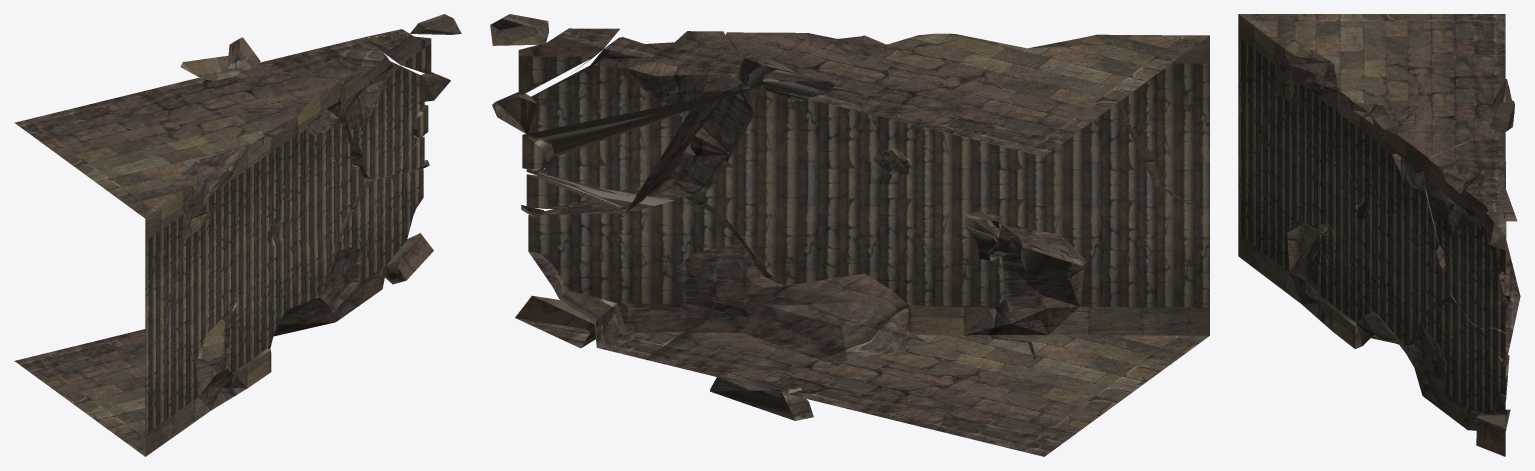
Rendered from juqing_yewai_333_building_louti_a.obj.
The picture shows the model from 3 angles, left to right: view 1: azimuth 30°, elevation 25°; view 2: azimuth 150°, elevation 25°; view 3: azimuth 270°, elevation 25°; orthographic projection. The views are drawn at different scales.
Visible parts, largest first — view 1: juqing_yewai_333_building_louti_a; view 2: juqing_yewai_333_building_louti_a; view 3: juqing_yewai_333_building_louti_a.
Boxes of the visible parts, box(x1,y1,x2,y2) form: juqing_yewai_333_building_louti_a: box(14, 14, 461, 456); juqing_yewai_333_building_louti_a: box(490, 14, 1209, 456); juqing_yewai_333_building_louti_a: box(1238, 14, 1520, 456).
Bounding box in the file's own units: 990 × 613 × 540.
Materials: 2 (2 with a texture image).
